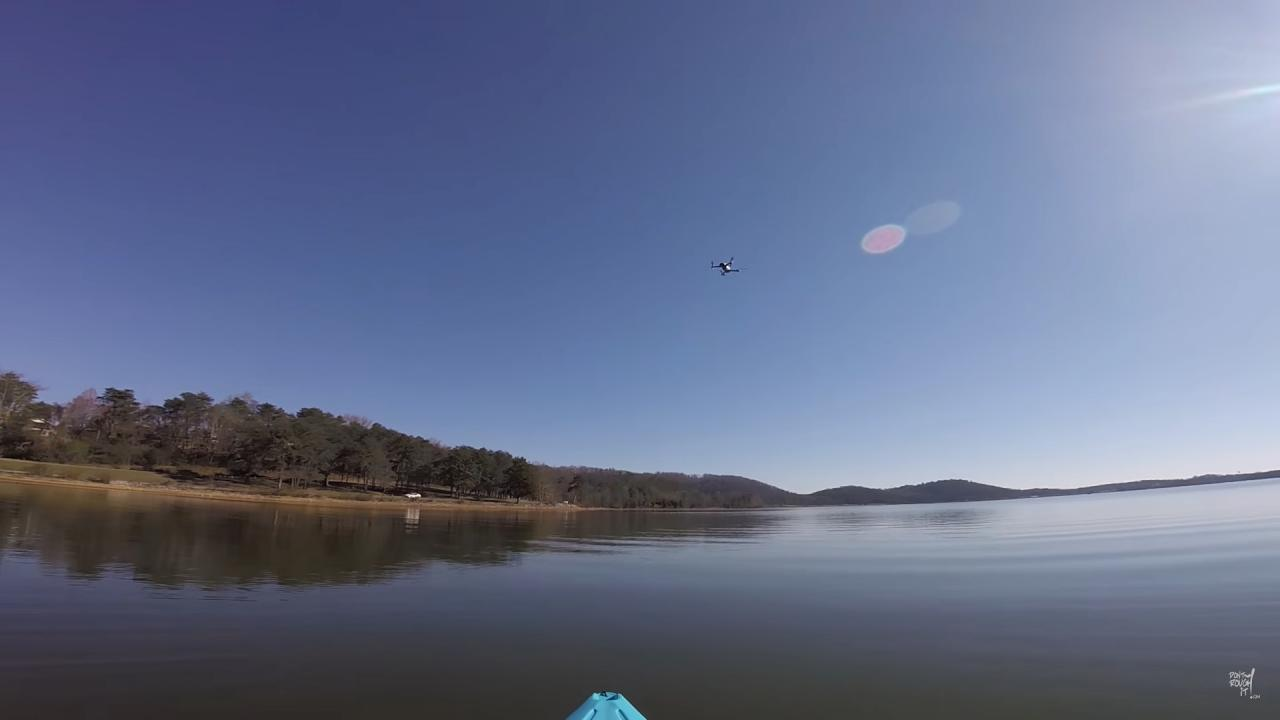Drone: (700, 246, 753, 290)
